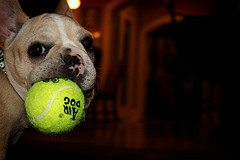tennis ball: (24, 77, 85, 135)
